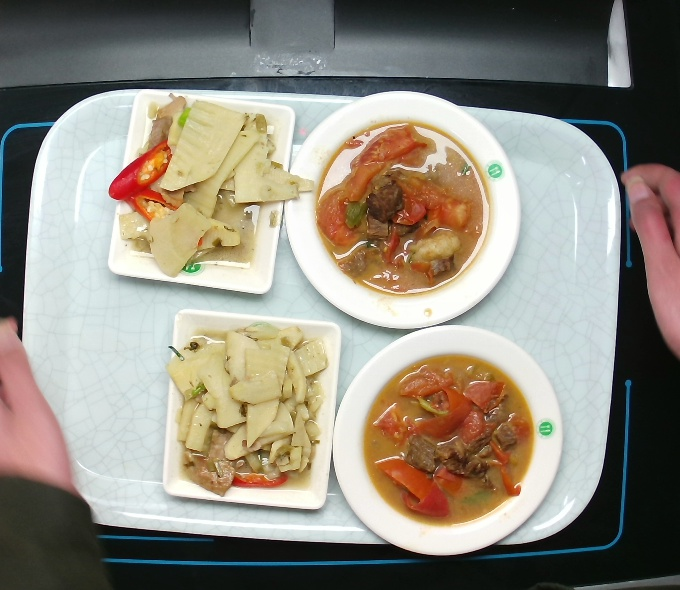wcq-DongSun: (105, 98, 315, 280), (156, 312, 337, 499)
wcq-FanQiwNiuRou: (309, 120, 490, 307), (359, 350, 540, 537)
